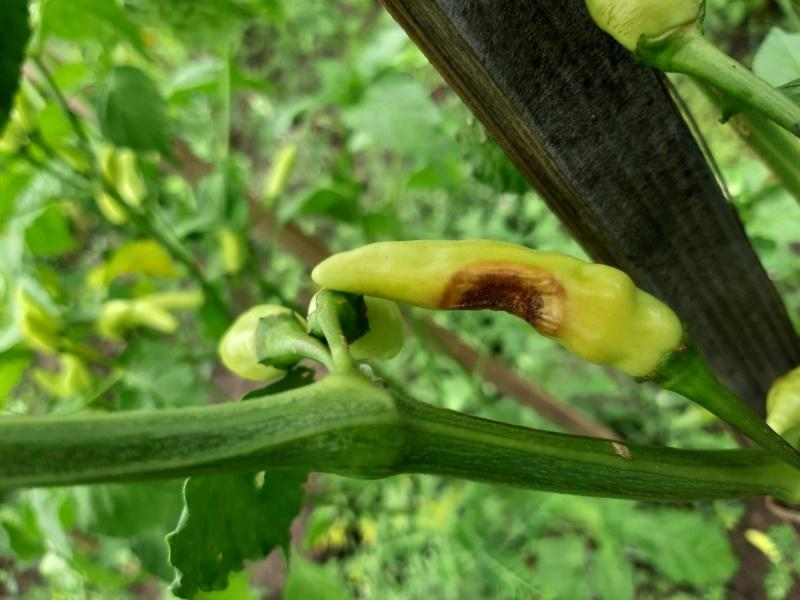antraknosa: (313, 237, 684, 376)
cabai_normal: (219, 304, 307, 384)
